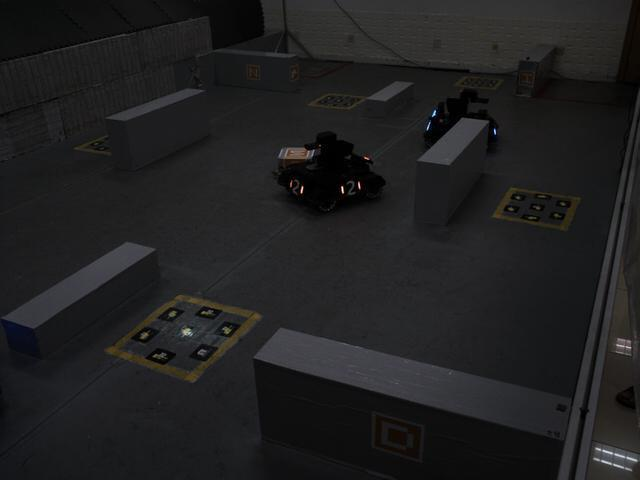armor: (336, 175, 366, 200), (285, 175, 307, 200)
